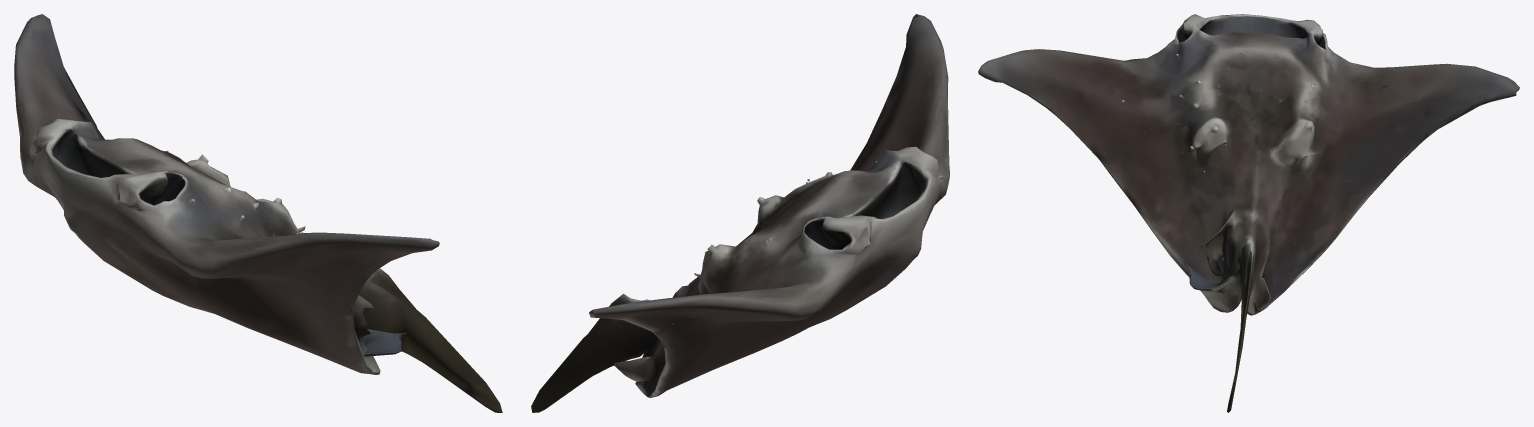
Rendered from manta.glb.
3 renders of one model, left to right at view 1: azimuth 30°, elevation 25°; view 2: azimuth 150°, elevation 25°; view 3: azimuth 270°, elevation 25°, orthographic. The views are drawn at different scales.
Visible parts, largest first — view 1: tripo_node_bbd0ba6e-fb83-4a15-ac7a-bc5f03d6d65e; view 2: tripo_node_bbd0ba6e-fb83-4a15-ac7a-bc5f03d6d65e; view 3: tripo_node_bbd0ba6e-fb83-4a15-ac7a-bc5f03d6d65e.
Part boxes in pixels (x1,y1,x2,y2): tripo_node_bbd0ba6e-fb83-4a15-ac7a-bc5f03d6d65e: (14, 14, 502, 412); tripo_node_bbd0ba6e-fb83-4a15-ac7a-bc5f03d6d65e: (531, 14, 949, 412); tripo_node_bbd0ba6e-fb83-4a15-ac7a-bc5f03d6d65e: (978, 14, 1519, 412).
Size of the model in its own units: 0.6648 by 0.5323 by 1.
1 material, 1 textured.
